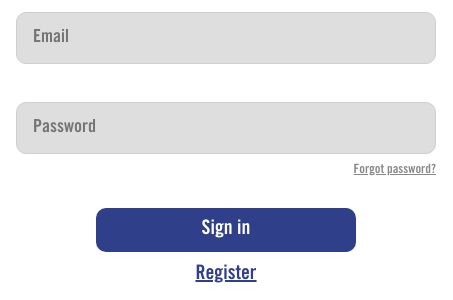
Test: shows error when submitting empty password
In the field with placeholder "Email": (226, 38) [16, 12, 436, 64], type "test@test.com"
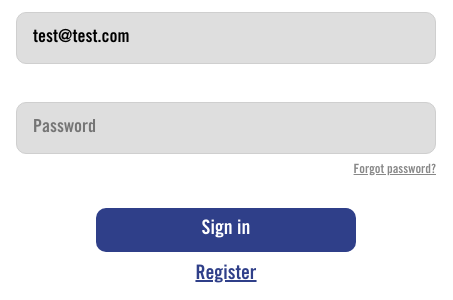
Click the button "Sign in": click(226, 230) [96, 208, 356, 252]
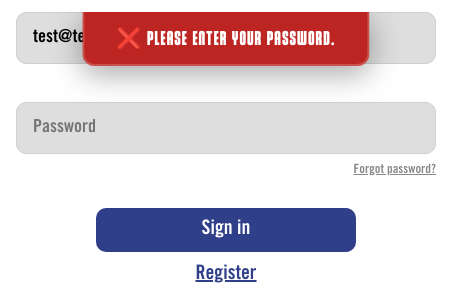
Result: the text "❌ Please enter your password." is shown at [82, 12, 370, 66]
